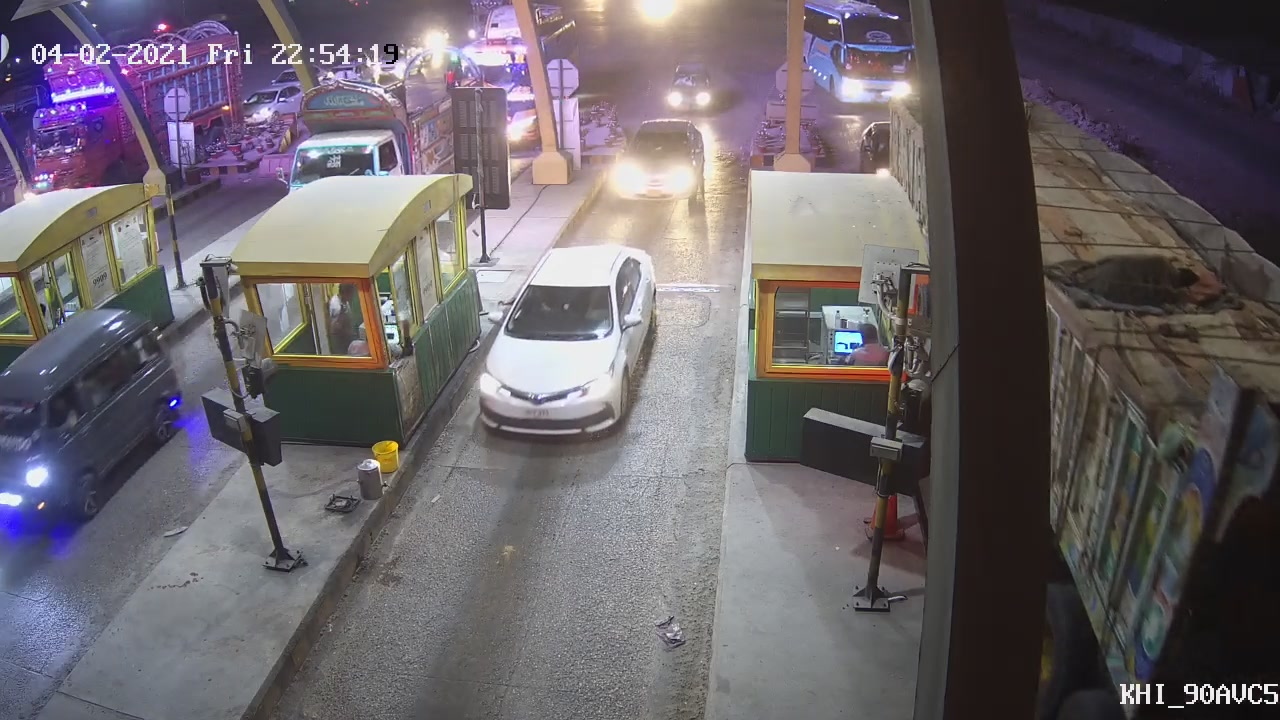F1: (472, 240, 661, 443)
